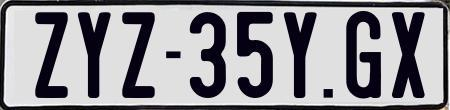3: (189, 9, 229, 101)
5: (237, 9, 276, 96)
G: (345, 10, 381, 99)
X: (389, 11, 426, 97)
Y: (78, 10, 113, 97), (282, 11, 316, 99)
Z: (120, 10, 157, 101), (35, 10, 68, 97)
